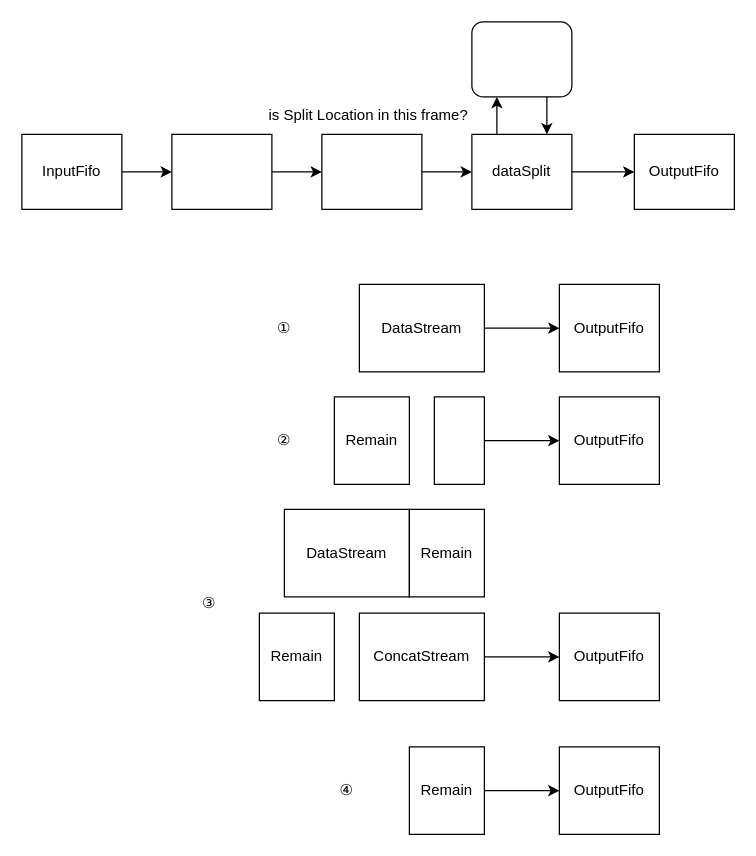
Some shapes in this 756 by 856 pixel diagram are drawn without their labels. The centre of each missing label's shape, as x and y in pixels:
assertSplit: (371,171)
getFrameSize: (221,171)
Last: (458,440)
remainStream: (521,59)
